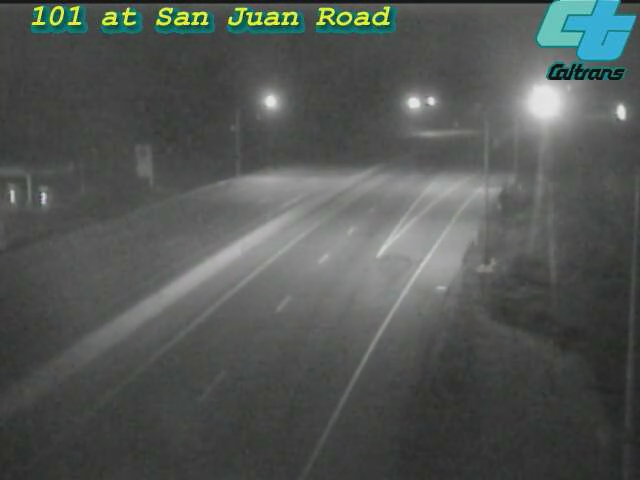vehicle: (518, 80, 568, 130), (596, 87, 640, 137)
